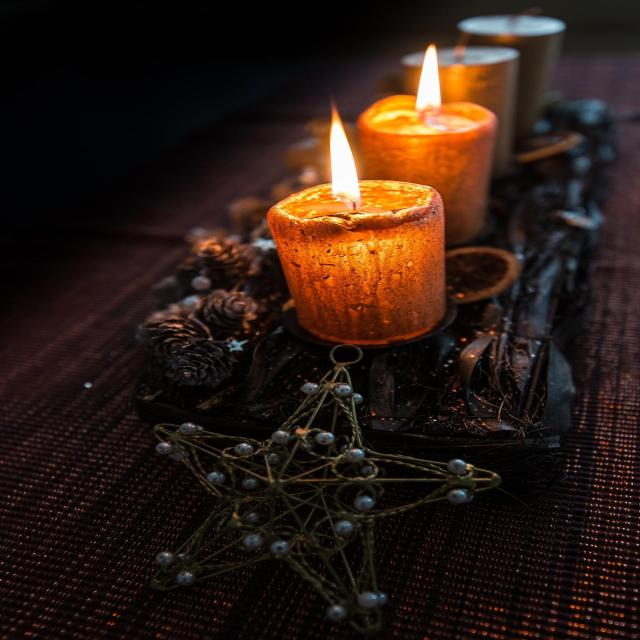Fire_Save: (265, 97, 448, 347), (355, 43, 499, 245)
